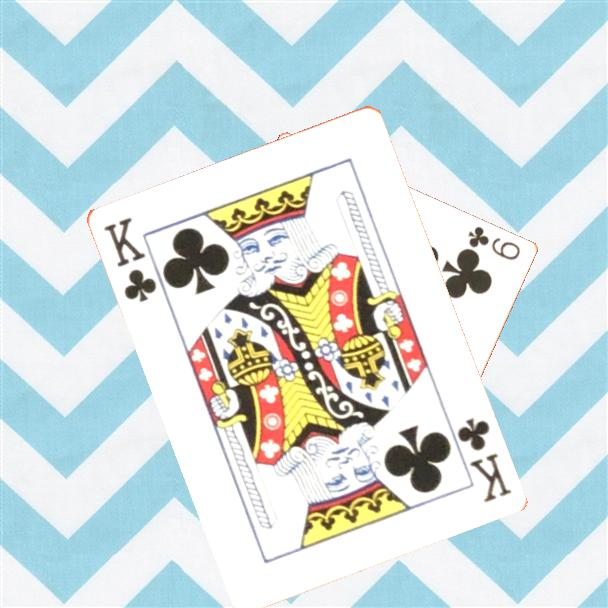c09: (465, 223, 524, 263)
c13: (453, 413, 514, 505), (99, 213, 159, 305)
